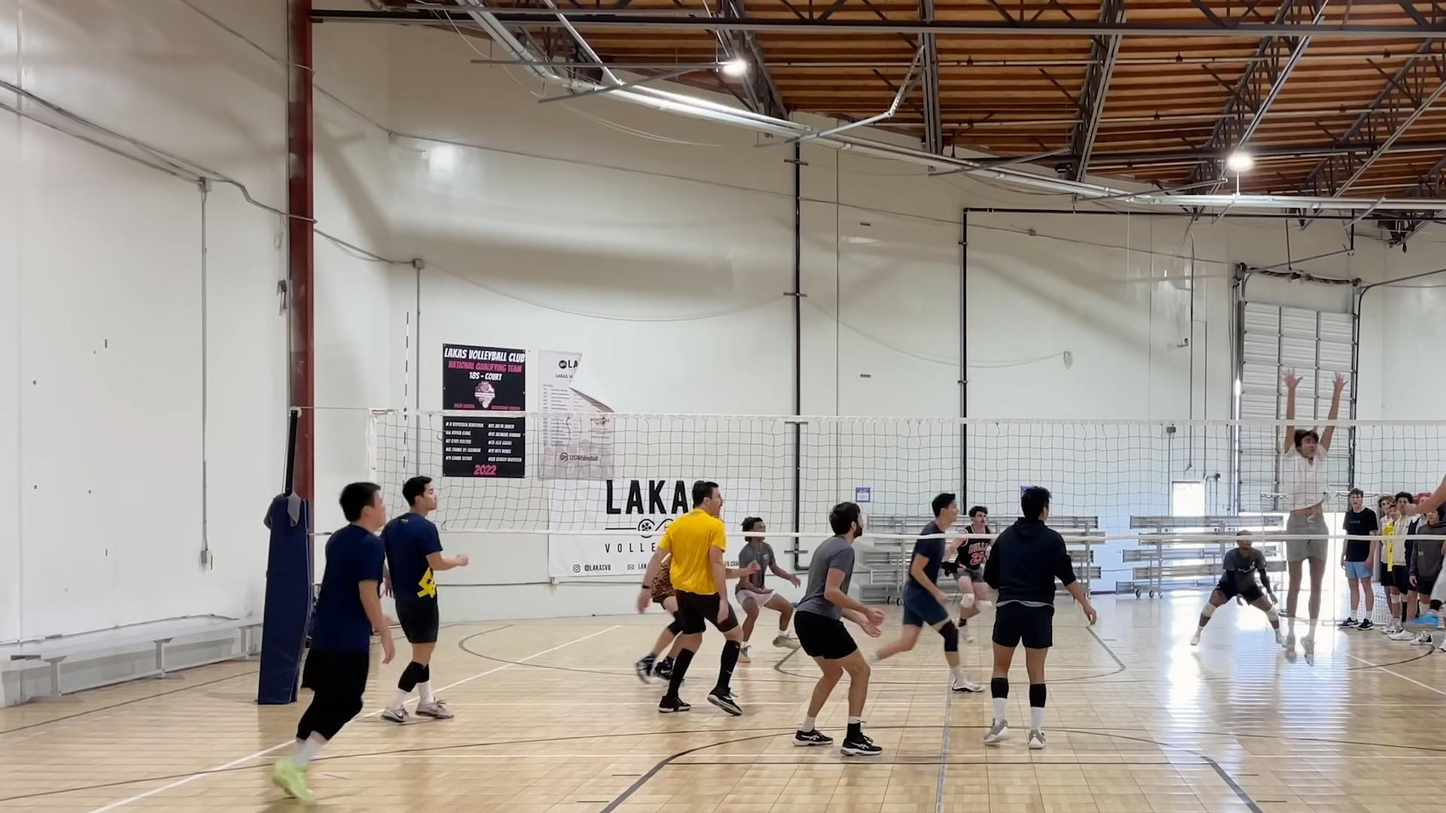muro: (1260, 359, 1350, 670)
